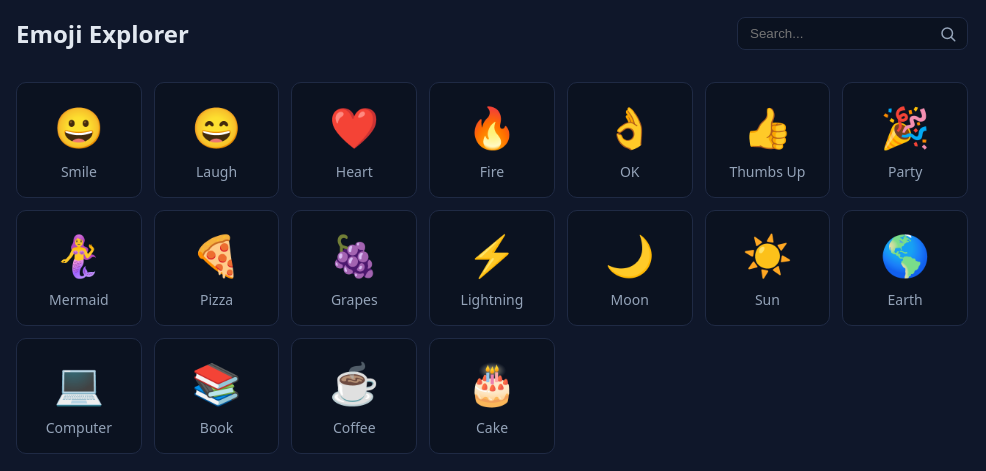
Emoji Explorer - Filtering › filters by name
Type "moon" into the field named "search emoji". click: [853, 34]
box: [737, 17, 968, 50]
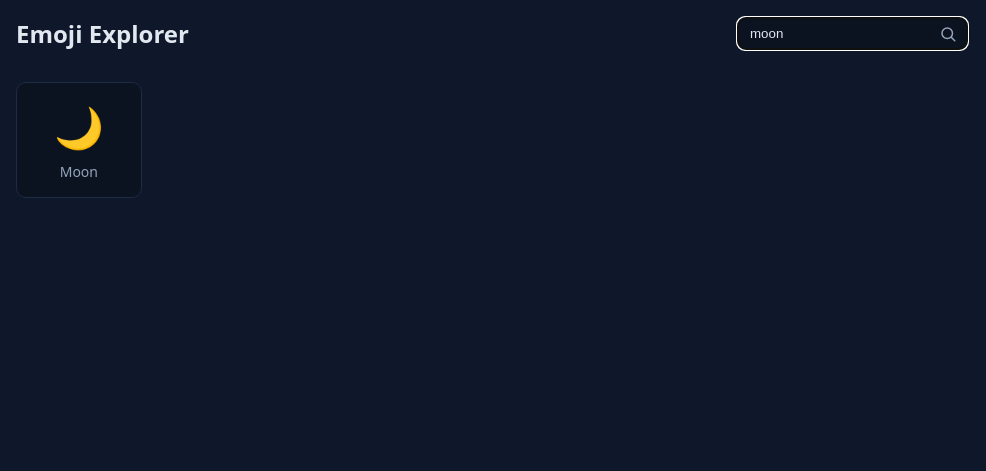
expect the number of cells is 1: met, box [16, 82, 142, 198]
